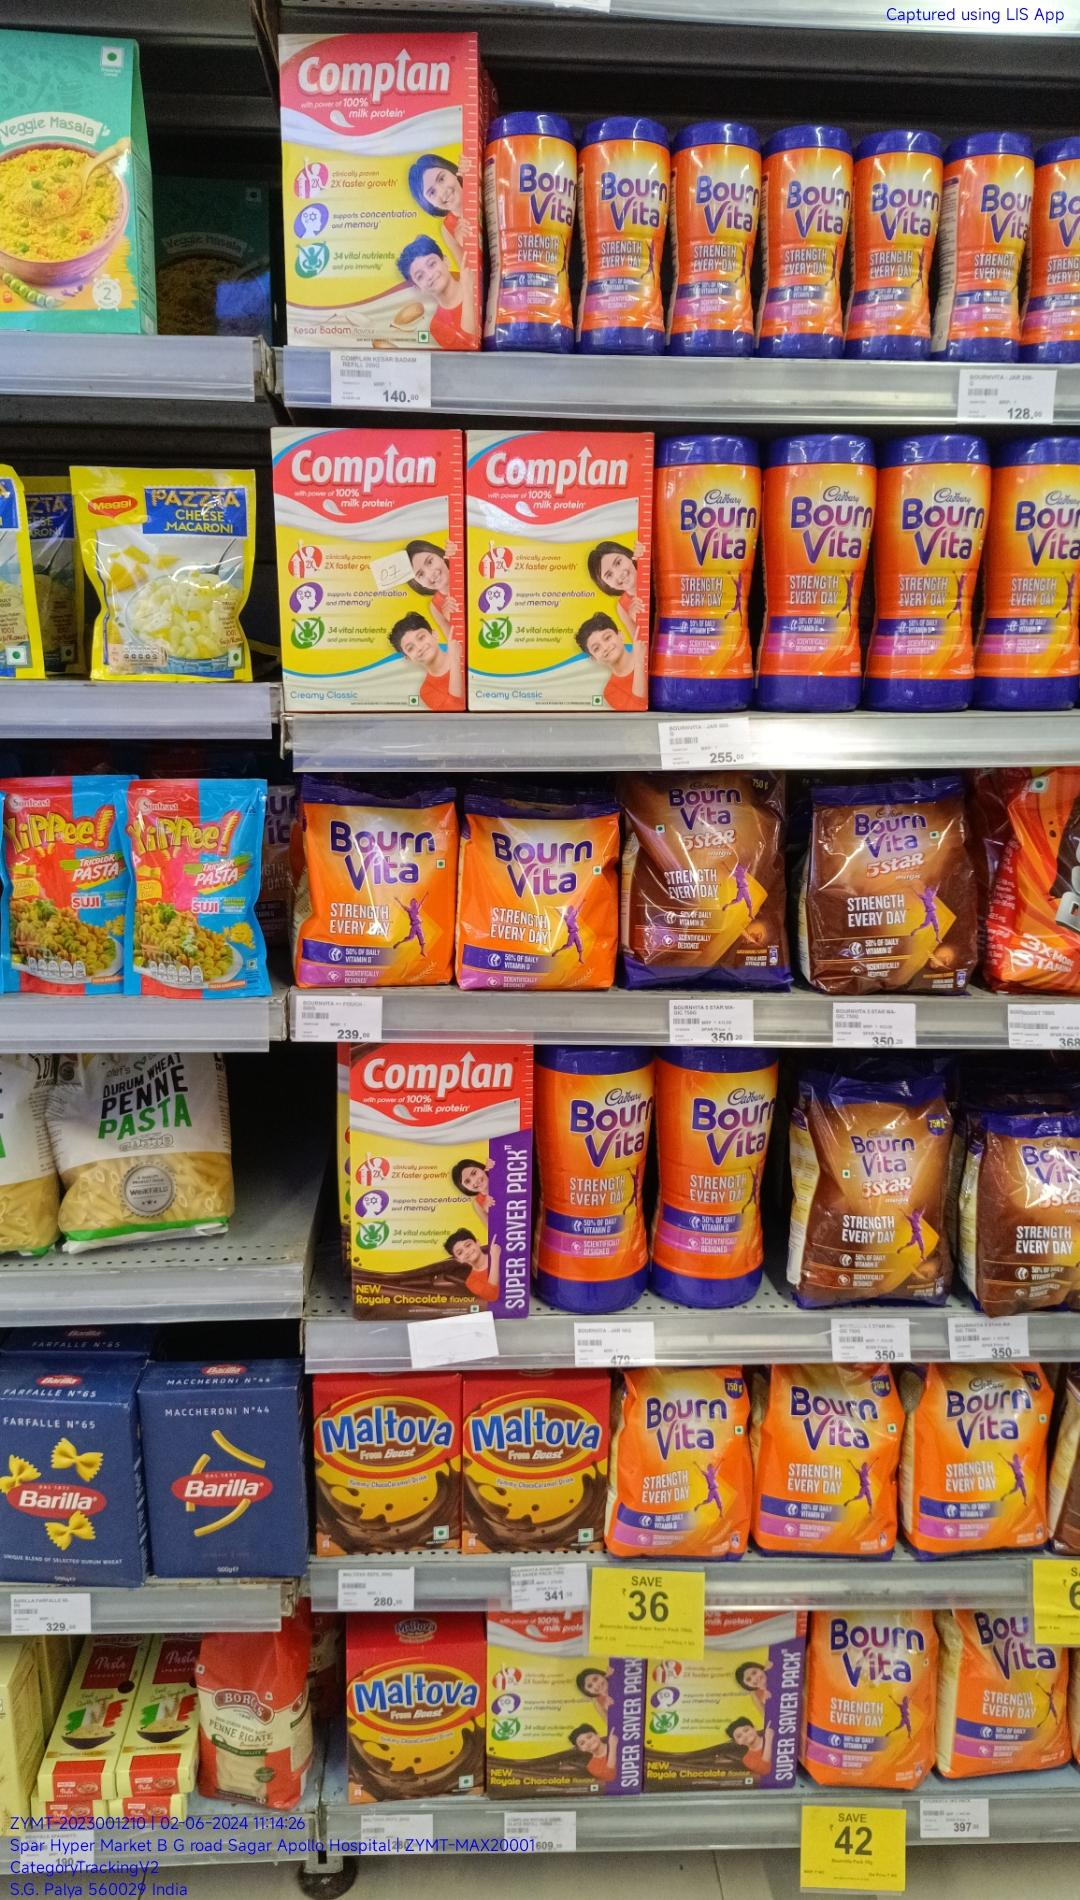BOURN_VITA_FIVE_STAR_MAGIC_500_G_POUCH: (805, 782, 977, 1000), (972, 1114, 1080, 1314)
BOURN_VITA_FIVE_STAR_MAGIC_750_G_POUCH: (790, 1071, 956, 1309), (620, 767, 790, 990)
